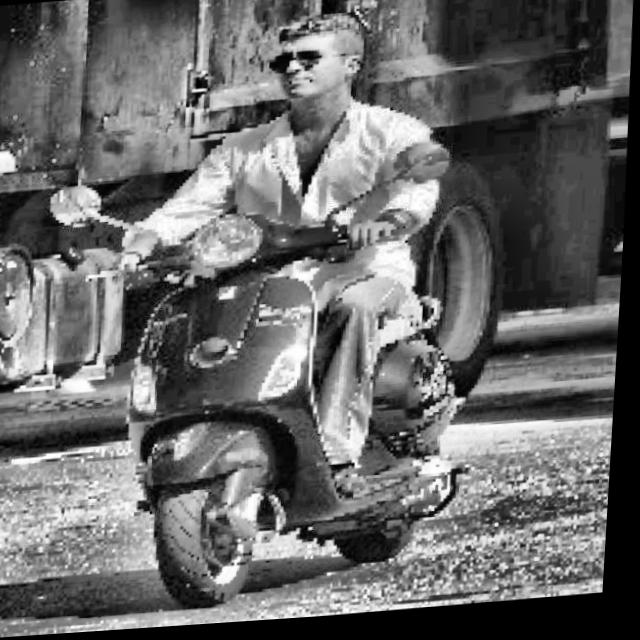motorcycle: (15, 139, 484, 620)
